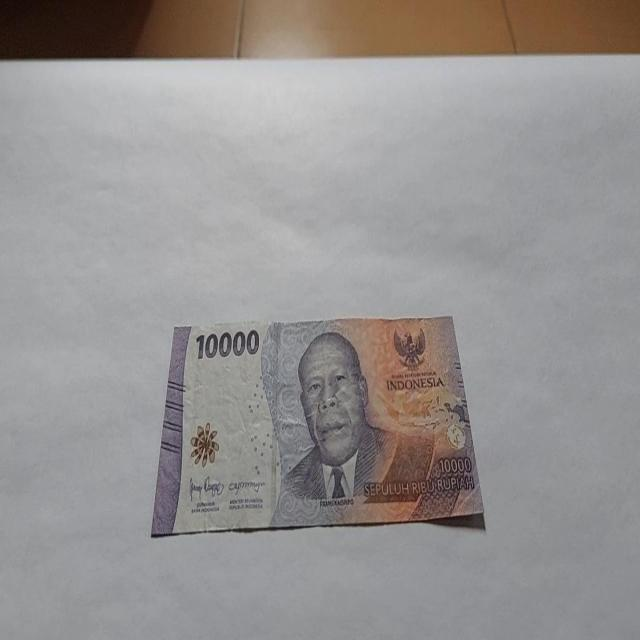Kertas: (150, 314, 486, 538), (194, 327, 260, 361)
